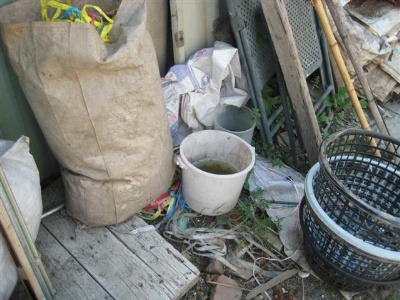bucket: (179, 130, 255, 217), (213, 104, 256, 145)
plastic_bag: (1, 1, 176, 222), (160, 40, 247, 112), (249, 156, 305, 212)
